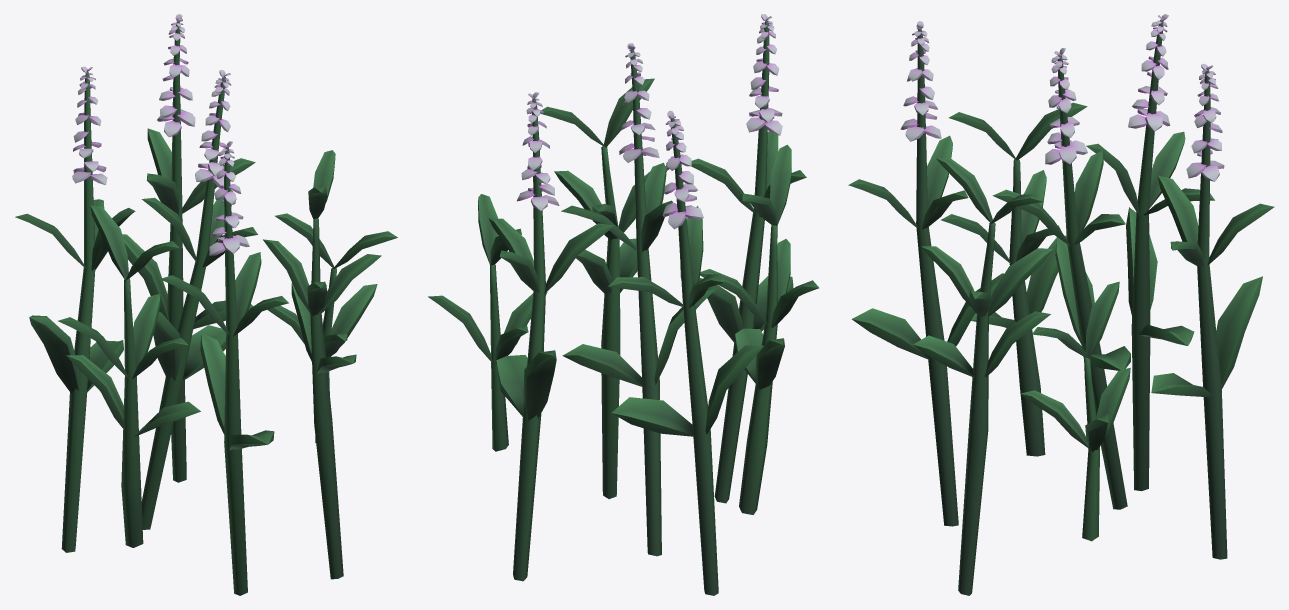
The model's file is SM_Plant_Sage_Lv2.fbx.
3 views of the same model, side by side, from view 1: azimuth 30°, elevation 25°; view 2: azimuth 150°, elevation 25°; view 3: azimuth 270°, elevation 25° (orthographic). The views are drawn at different scales.
Visible parts, largest first — view 1: SM_Plant_Sage_Lv2; view 2: SM_Plant_Sage_Lv2; view 3: SM_Plant_Sage_Lv2.
Boxes of the visible parts, x1,y1,x2,y2 form: SM_Plant_Sage_Lv2: (15,14,397,595); SM_Plant_Sage_Lv2: (428,14,818,595); SM_Plant_Sage_Lv2: (848,14,1274,595).
Bounding box in the file's own units: 44.82 × 59.79 × 45.24.
